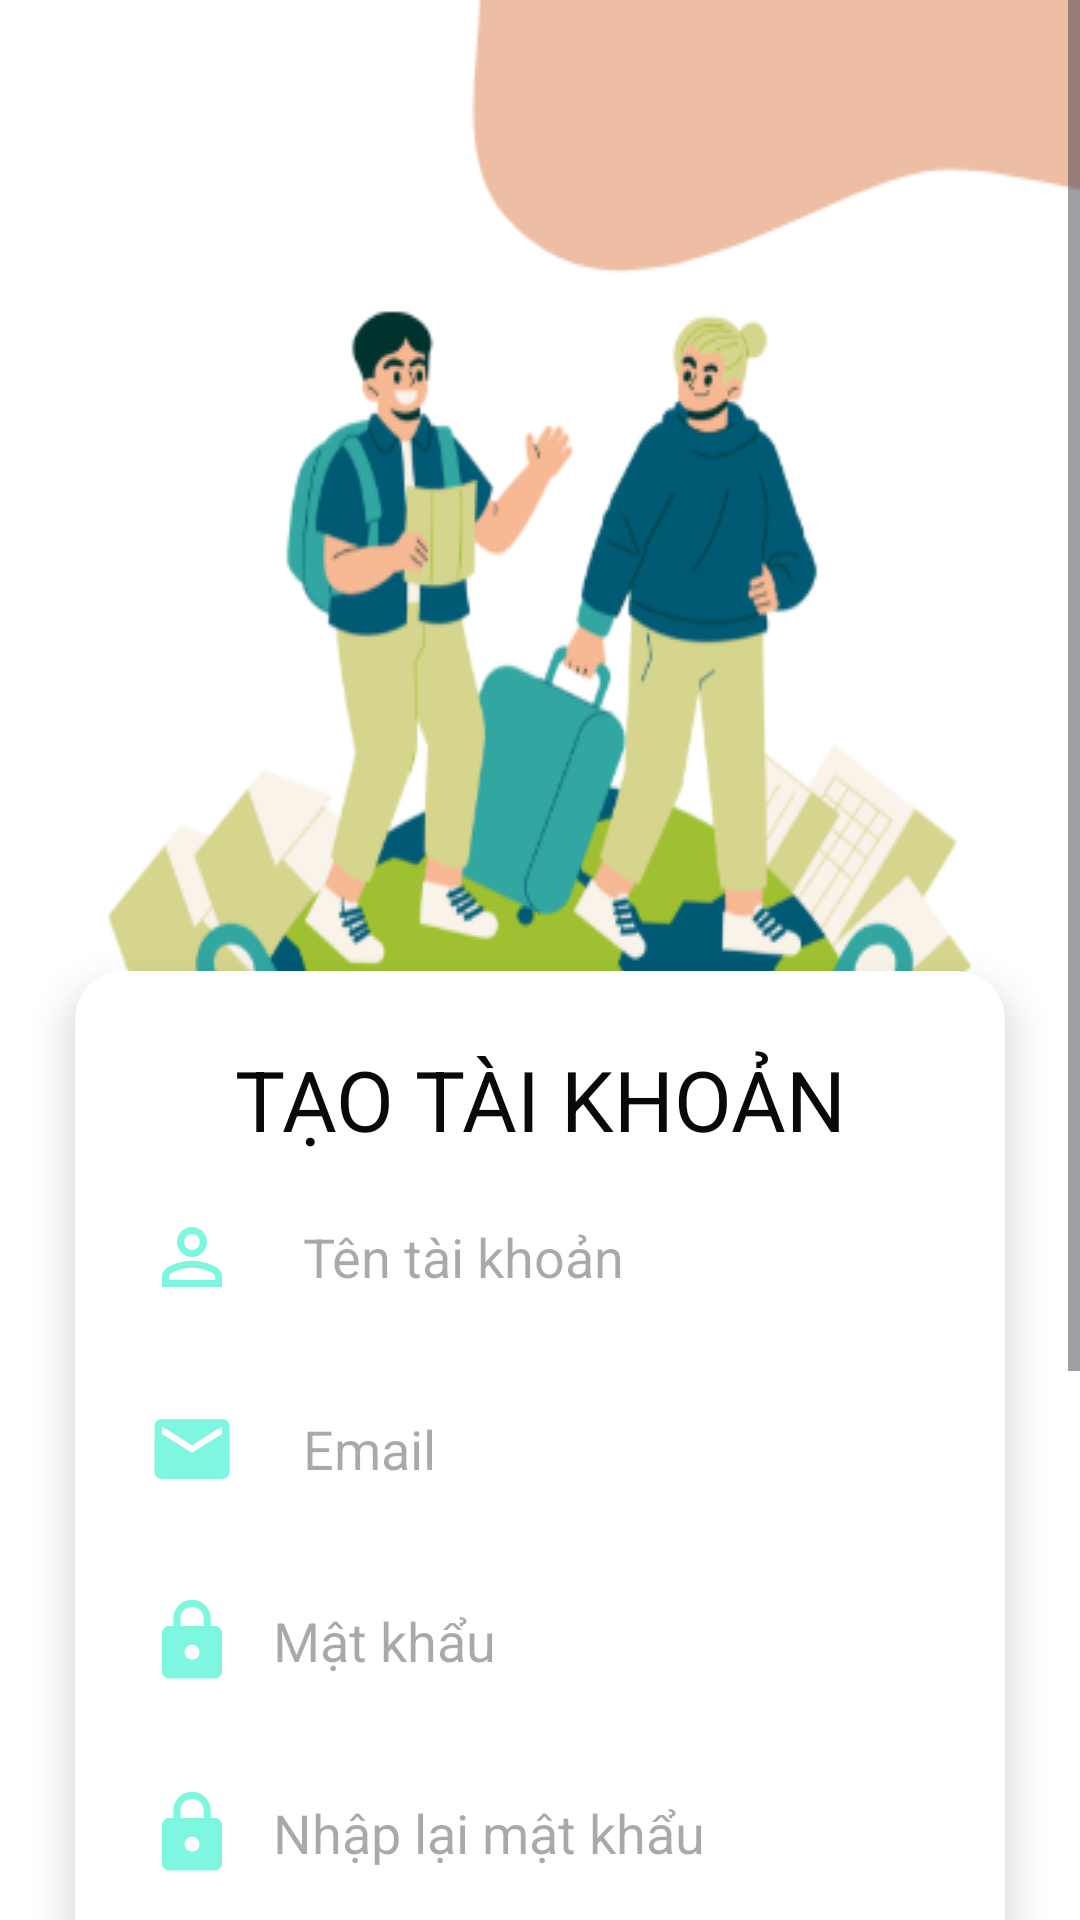

Point at icon controls on the screen. Image size 1080px×1920px, points as [x,y].
pass: [192,1639], [192,1831]
user: [192,1257]
